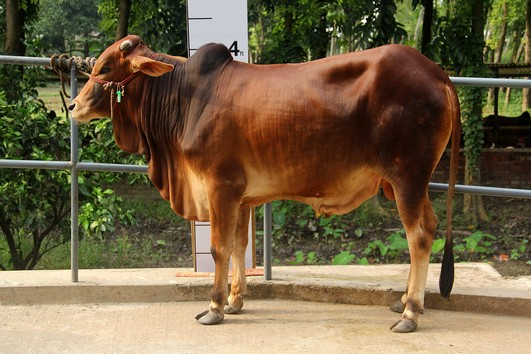cow: (64, 29, 466, 333)
